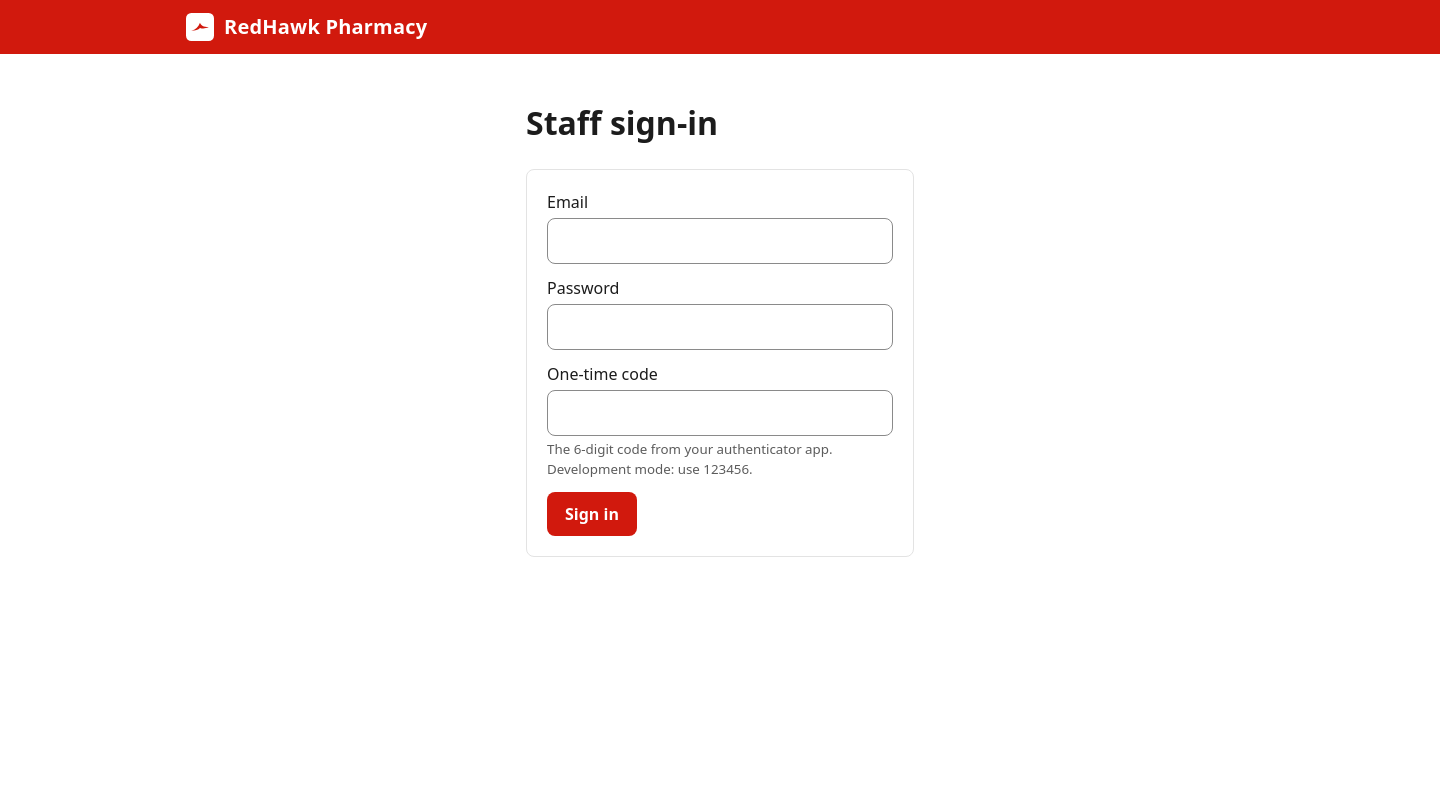
Test: staff sign-in (F1) › signs in with password + one-time code and returns to the requested page
In the field labelled "Email": x=720, y=241 [547,218,893,264], type "manager@redhawk.test"
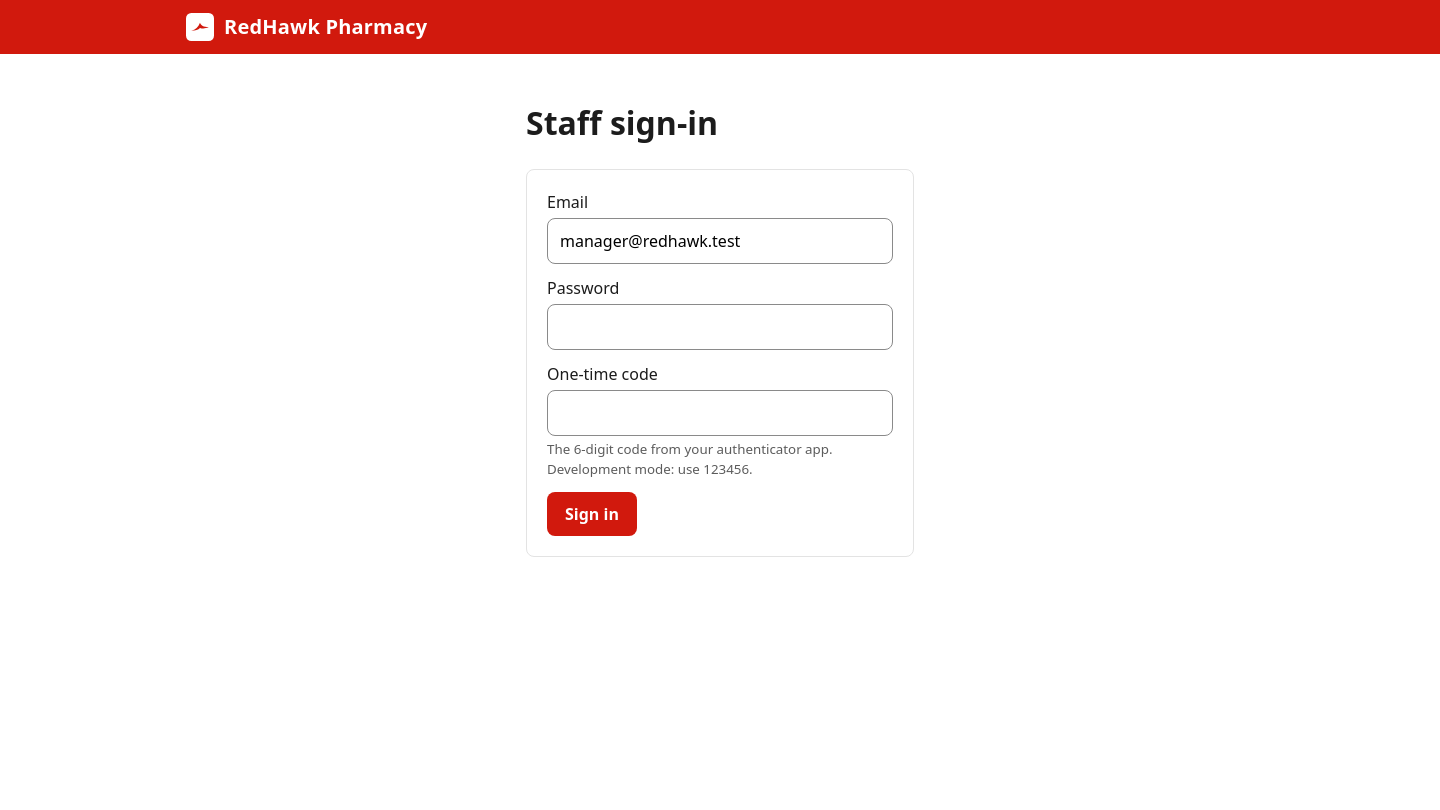
In the password field labelled "Password": x=720, y=327 [547,304,893,350], type "ChangeMe!123"
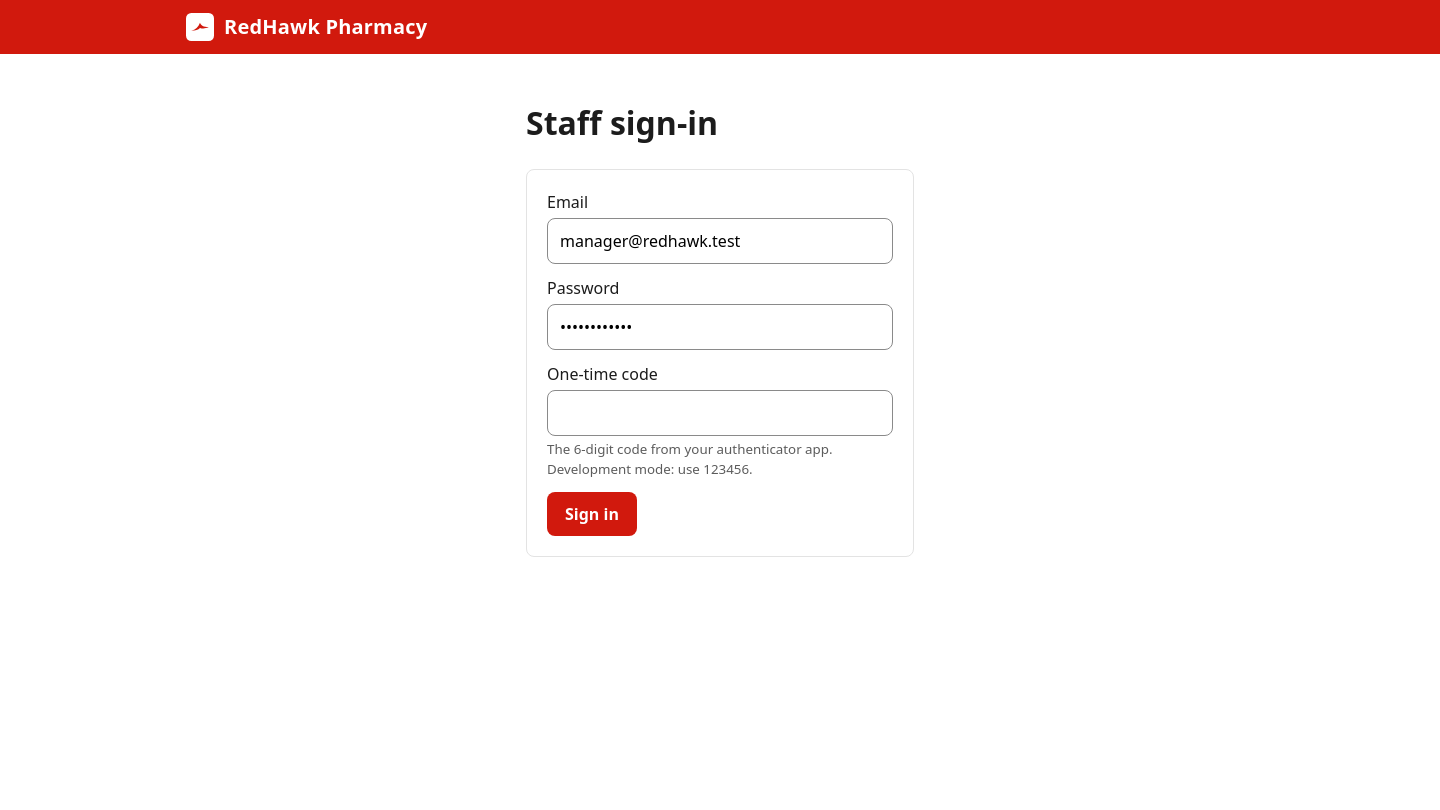
In the field labelled "One-time code": x=720, y=413 [547,390,893,436], type "123456"
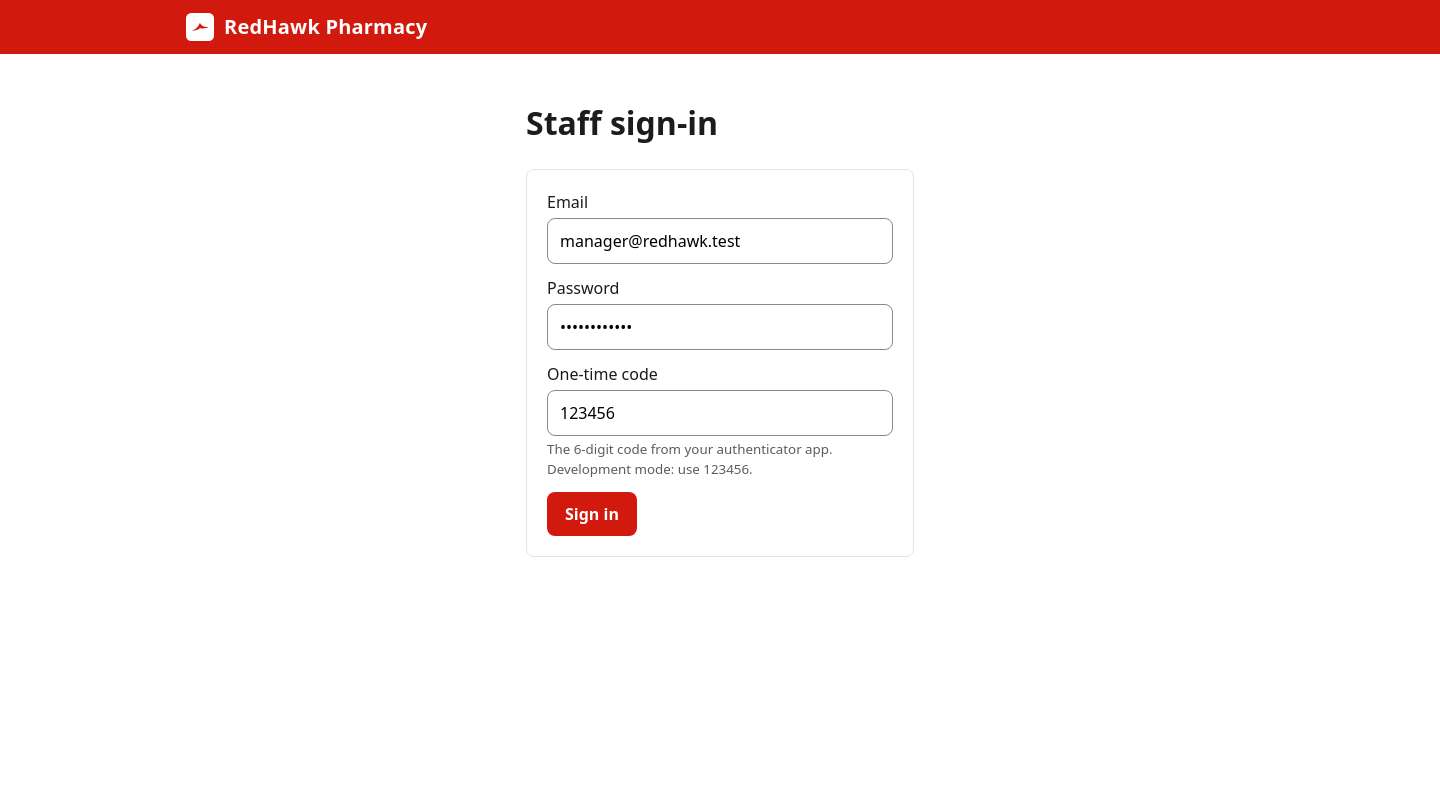
Click the button "Sign in": x=592, y=514 [547,492,637,536]
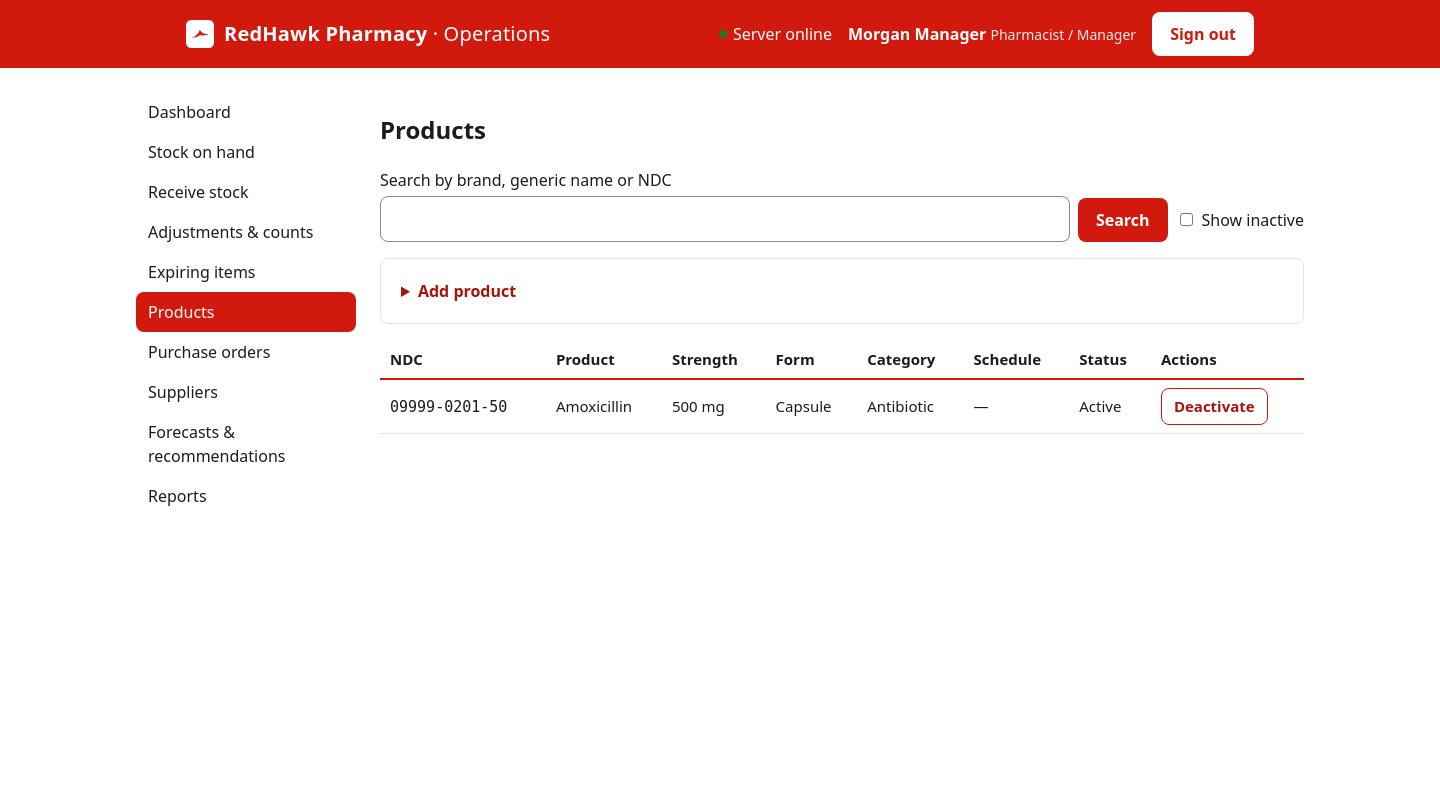
Check: the heading "Products" is shown, box [380,113,486,146]
Check: the text "Morgan Manager" is shown, box [848,23,986,45]
